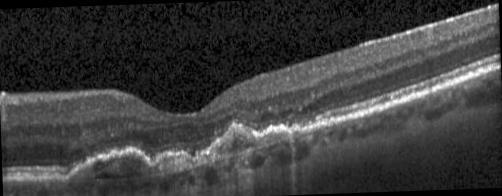subretinal_fluid: (96, 171, 139, 178)
subretinal_hyperreflective_material: (64, 123, 303, 180)
